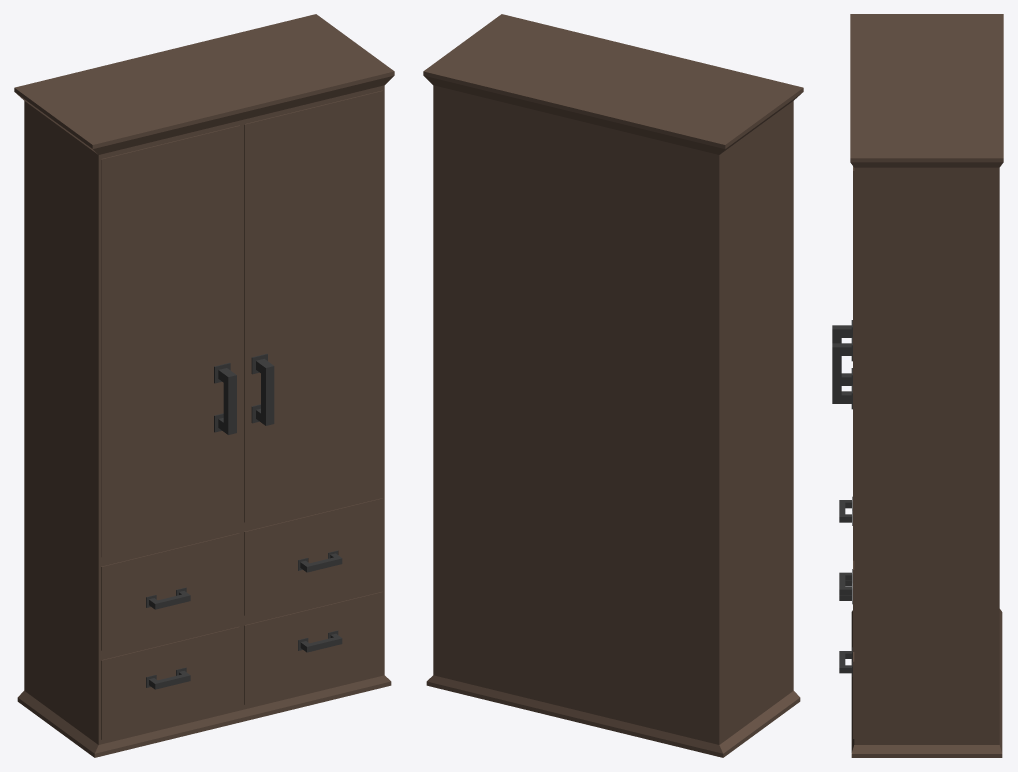
Rendered from armoire.fbx.
3 views of the same model, side by side, from view 1: azimuth 30°, elevation 25°; view 2: azimuth 150°, elevation 25°; view 3: azimuth 270°, elevation 25° (orthographic). The views are drawn at different scales.
Parts seen in each view (by area): view 1: Plane.001; view 2: Plane.001; view 3: Plane.001.
Part boxes in pixels (x1,y1,x2,y2): Plane.001: (14, 14, 394, 757); Plane.001: (423, 14, 803, 757); Plane.001: (832, 14, 1003, 757).
Bounding box in the file's own units: 105 × 205 × 53.
